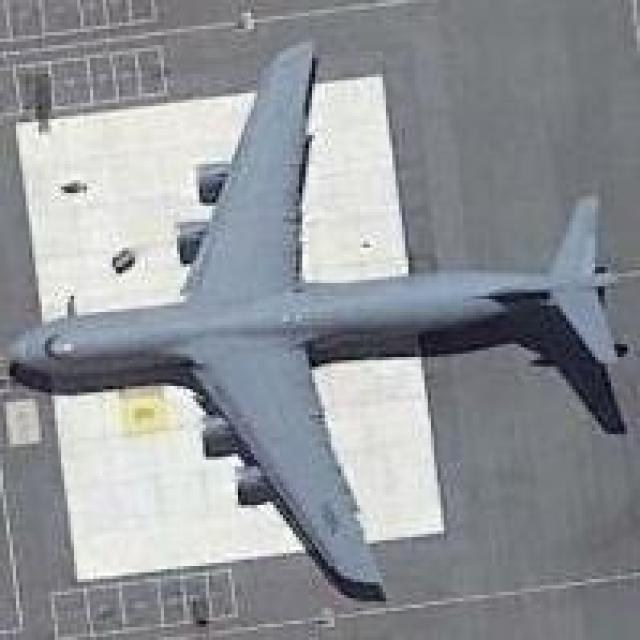C-5_TopDown: (0, 36, 637, 602)
